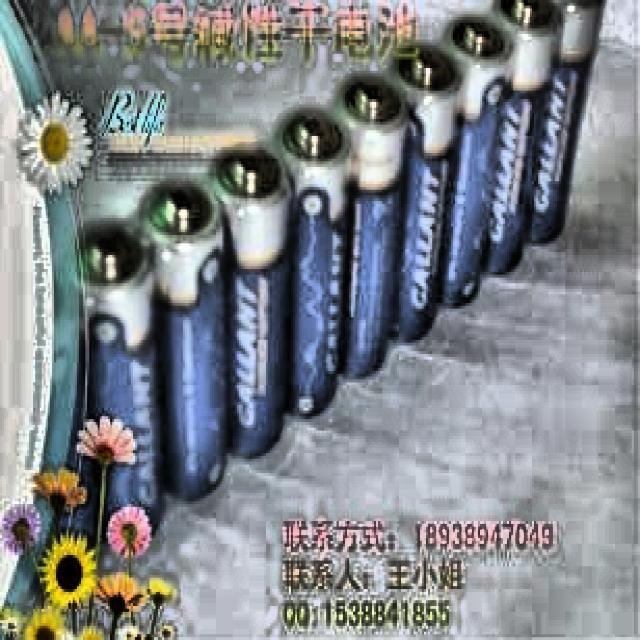Non-Valuable Waste - Batteries: (142, 184, 225, 498), (274, 107, 349, 415), (214, 150, 289, 456), (84, 228, 161, 526), (334, 75, 406, 376), (390, 44, 460, 340), (440, 15, 511, 306), (488, 0, 552, 272), (531, 0, 601, 241)
